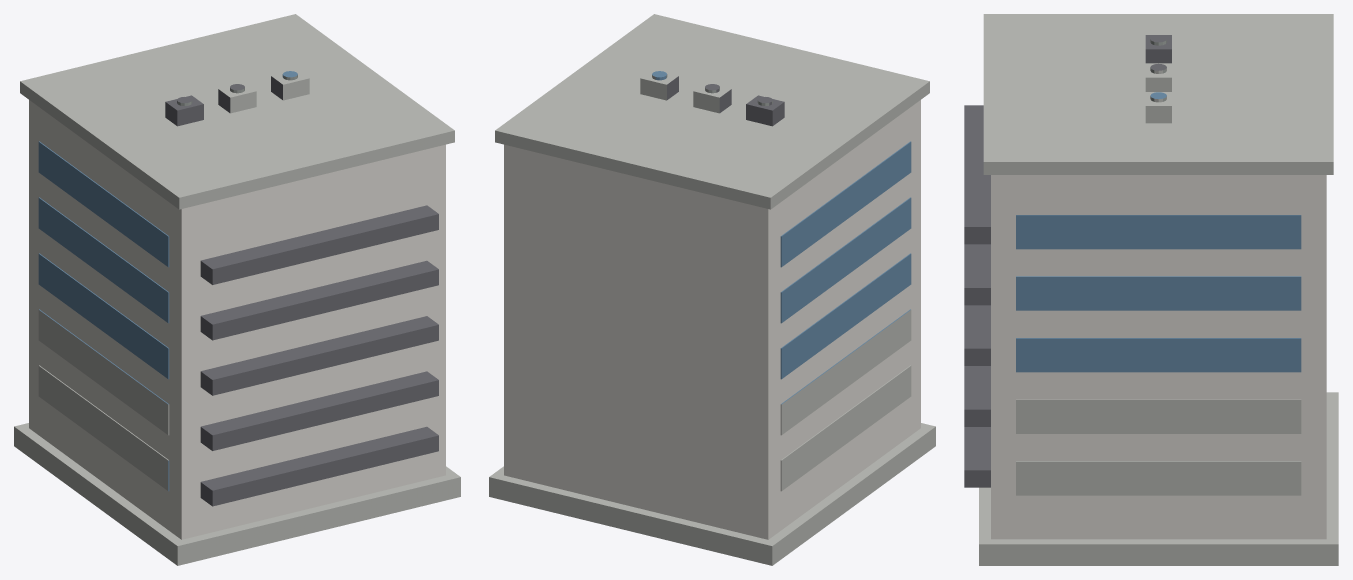
File: apartment_modern_balconies.glb
3 views of the same model, side by side, from view 1: azimuth 30°, elevation 25°; view 2: azimuth 150°, elevation 25°; view 3: azimuth 270°, elevation 25° (orthographic). The views are drawn at different scales.
Visible parts, largest first — view 1: apartment_modern_balconies; view 2: apartment_modern_balconies; view 3: apartment_modern_balconies.
Boxes of the visible parts, left/top/right/bottom form: apartment_modern_balconies: left=14, top=14, right=460, bottom=565; apartment_modern_balconies: left=489, top=14, right=935, bottom=565; apartment_modern_balconies: left=964, top=14, right=1338, bottom=565.
Size of the model in its own units: 15 by 19.45 by 15.6.
